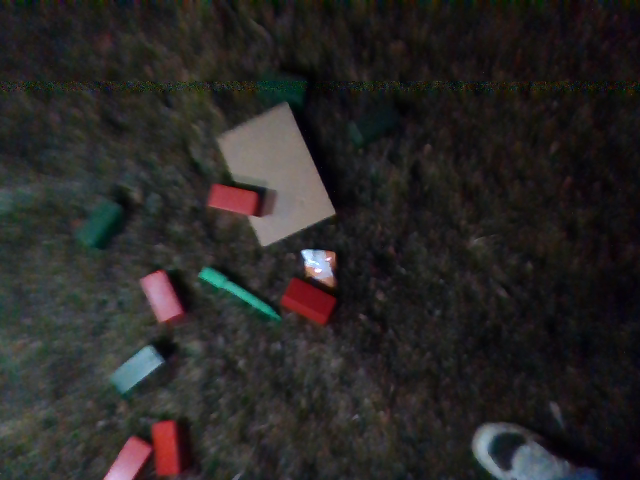Probe: (197, 259, 286, 327)
